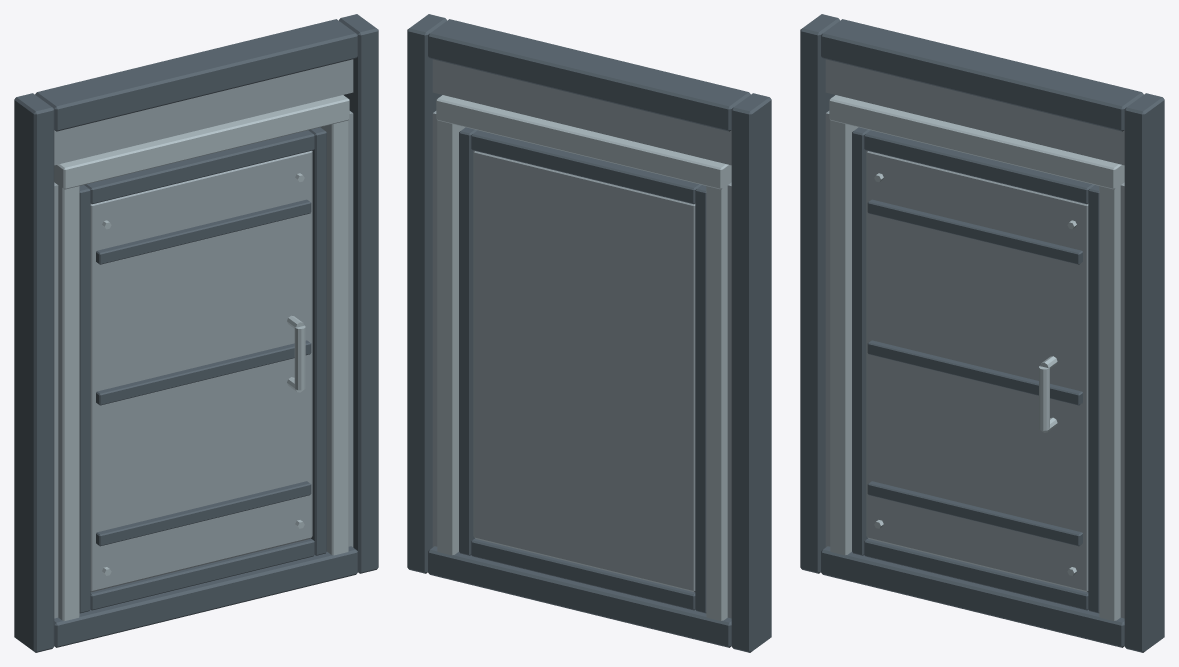
The model's file is 01_wall_metal_door.glb.
3 views of the same model, side by side, from view 1: azimuth 30°, elevation 25°; view 2: azimuth 150°, elevation 25°; view 3: azimuth 330°, elevation 25° (orthographic).
Parts seen in each view (by area): view 1: DoorLeaf, 01_wall_metal_door; view 2: DoorLeaf, 01_wall_metal_door; view 3: DoorLeaf, 01_wall_metal_door.
Boxes of the visible parts, <box> form: DoorLeaf: <box>79,127,326,613</box>; 01_wall_metal_door: <box>14,14,378,652</box>; DoorLeaf: <box>459,127,706,613</box>; 01_wall_metal_door: <box>407,14,771,652</box>; DoorLeaf: <box>852,127,1099,613</box>; 01_wall_metal_door: <box>800,14,1164,652</box>.
Bounding box in the file's own units: 2 × 3 × 0.3466.
